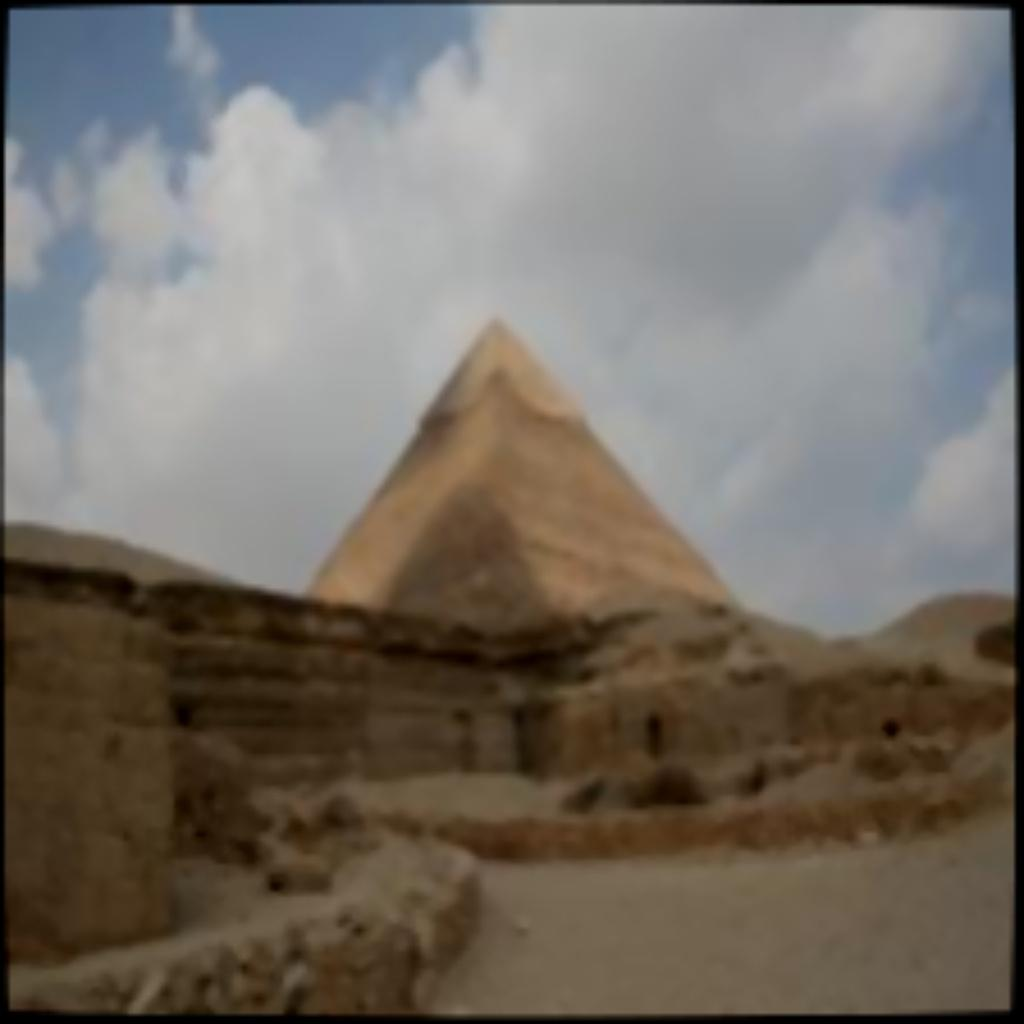Great Pyramids of Giza: (298, 306, 740, 636)
